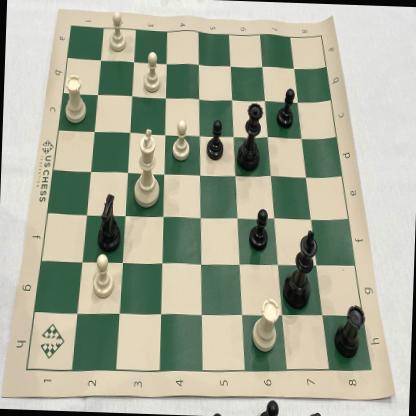black-king: (282, 225, 320, 314)
black-pawn: (245, 206, 270, 255), (275, 86, 297, 131), (204, 118, 226, 162)
black-queen: (234, 100, 266, 174)
black-rook: (332, 302, 366, 360), (95, 193, 124, 252)
white-king: (131, 127, 165, 210)
white-pawn: (89, 253, 116, 300), (169, 117, 192, 163), (141, 51, 163, 96), (106, 9, 128, 53)
white-rook: (250, 297, 282, 357), (60, 73, 90, 127)
